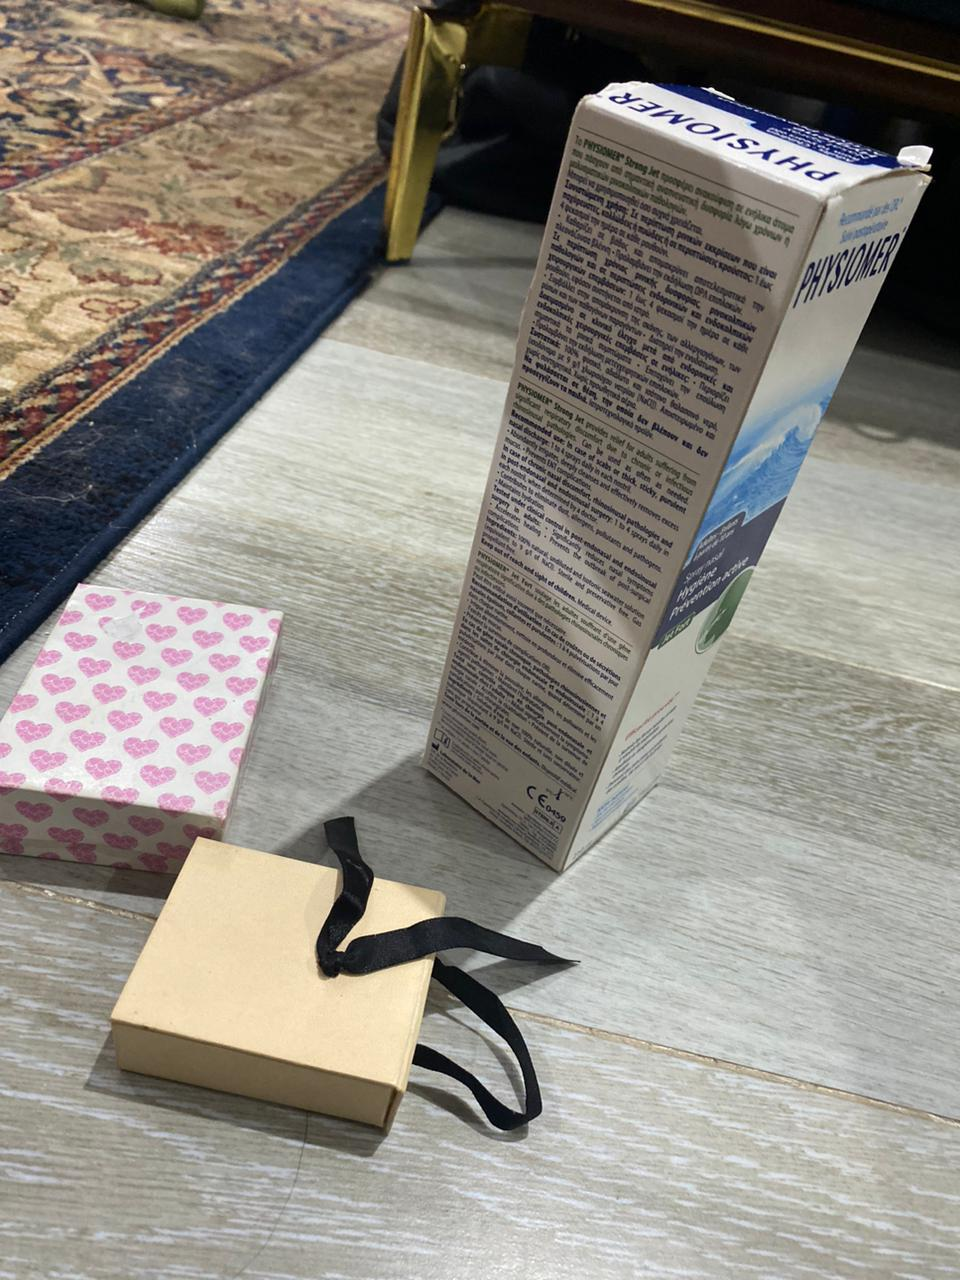Physiomer: (402, 78, 927, 875)
Pink Box: (6, 568, 290, 875)
Yellow Box: (101, 837, 441, 1142)
